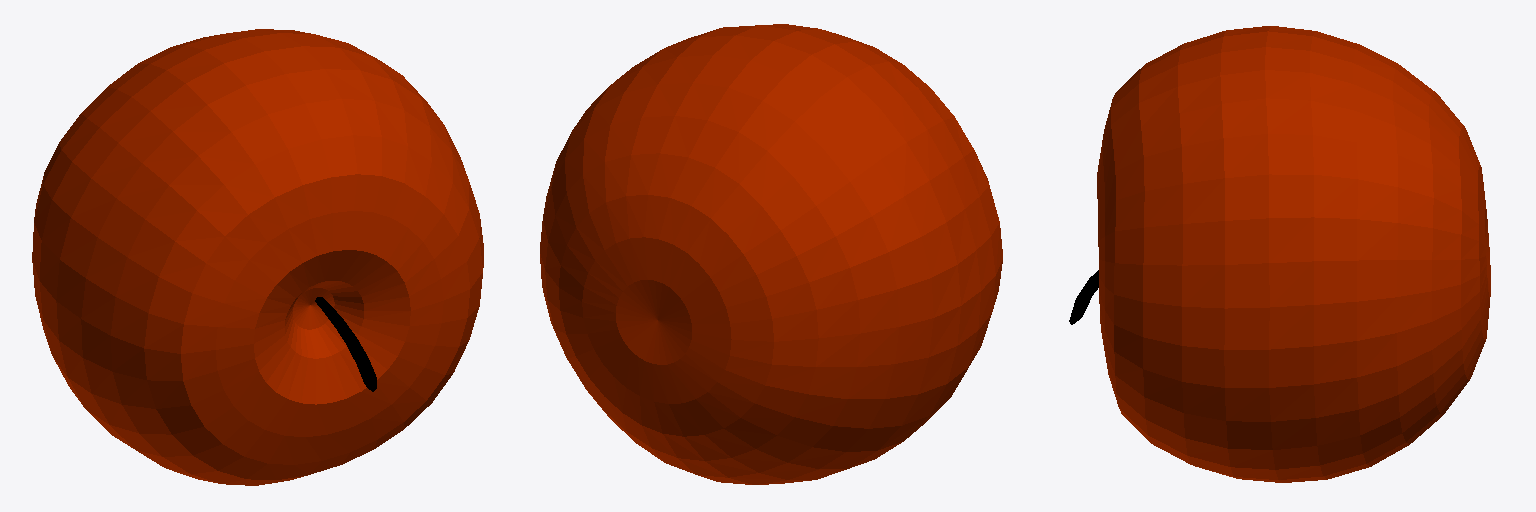
Rendered from apple.obj.
3 views of the same model, side by side, from view 1: azimuth 30°, elevation 25°; view 2: azimuth 150°, elevation 25°; view 3: azimuth 270°, elevation 25° (orthographic).
Parts seen in each view (by area): view 1: object_2, object_1; view 2: object_2; view 3: object_2, object_1.
Part boxes in pixels (x1,y1,x2,y2): object_2: (32,29,483,485); object_1: (315,297,376,391); object_2: (540,24,1002,484); object_2: (1097,26,1490,482); object_1: (1069,270,1098,324).
Bounding box in the file's own units: 4.1 × 4.18 × 3.82.